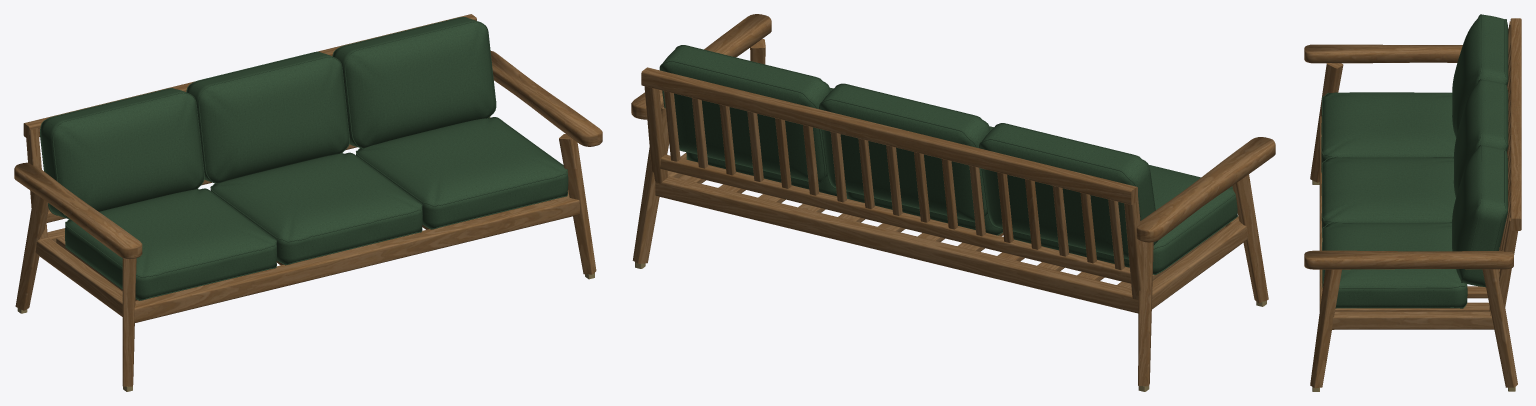
Rendered from sofa-rebuilt.glb.
The picture shows the model from 3 angles, left to right: view 1: azimuth 30°, elevation 25°; view 2: azimuth 150°, elevation 25°; view 3: azimuth 270°, elevation 25°; orthographic projection. The views are drawn at different scales.
Parts seen in each view (by area): view 1: sofa-rebuilt upholstery-textured, sofa-rebuilt wood-honey-textured, sofa-rebuilt tailored-tone-on-tone-stitch; view 2: sofa-rebuilt wood-honey-textured, sofa-rebuilt upholstery-textured, sofa-rebuilt tailored-tone-on-tone-stitch; view 3: sofa-rebuilt upholstery-textured, sofa-rebuilt wood-honey-textured, sofa-rebuilt tailored-tone-on-tone-stitch.
Part boxes in pixels (x1,y1,x2,y2): sofa-rebuilt upholstery-textured: (40,17,568,299); sofa-rebuilt wood-honey-textured: (14,14,602,386); sofa-rebuilt tailored-tone-on-tone-stitch: (40,17,567,300); sofa-rebuilt wood-honey-textured: (631,14,1275,386); sofa-rebuilt upholstery-textured: (660,45,1237,274); sofa-rebuilt tailored-tone-on-tone-stitch: (659,45,1237,274); sofa-rebuilt upholstery-textured: (1321,14,1508,307); sofa-rebuilt wood-honey-textured: (1304,18,1521,388); sofa-rebuilt tailored-tone-on-tone-stitch: (1321,14,1506,308).
Bounding box in the file's own units: 2 × 0.78 × 0.85.
4 materials, 3 textured.
